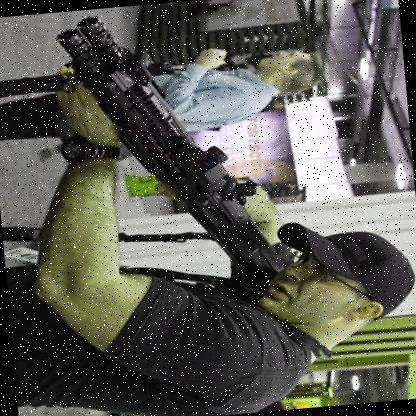rifle: (33, 0, 305, 307)
